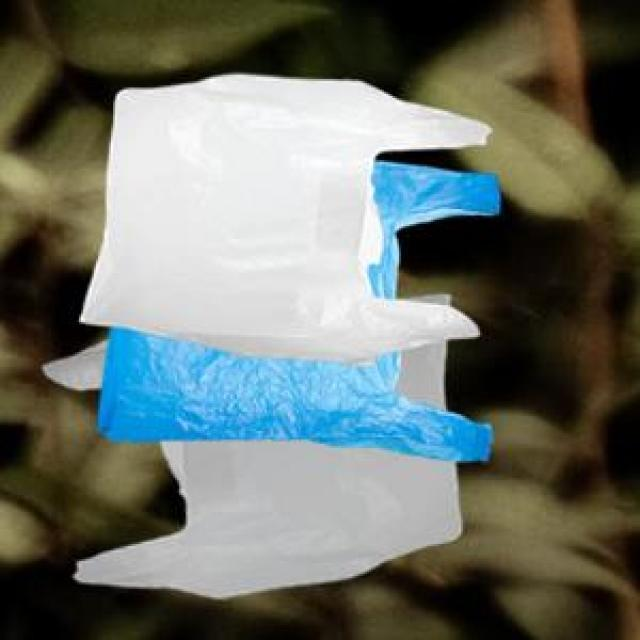waste: (46, 74, 499, 597)
